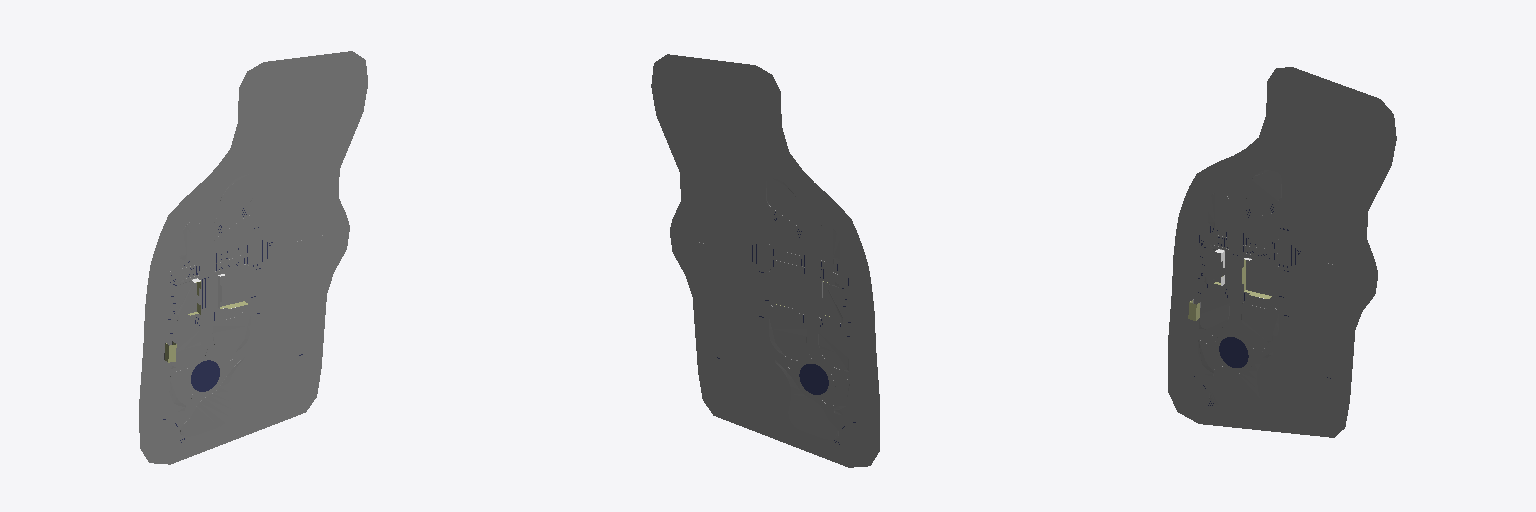
File: mcity.obj
3 views of the same model, side by side, from view 1: azimuth 30°, elevation 25°; view 2: azimuth 150°, elevation 25°; view 3: azimuth 330°, elevation 25° (orthographic).
Parts seen in each view (by area): view 1: Mcity; view 2: Mcity; view 3: Mcity.
Boxes of the visible parts, <box> form: Mcity: <box>139,51,367,464</box>; Mcity: <box>651,54,879,467</box>; Mcity: <box>1168,67,1396,437</box>.
Size of the model in its own units: 2300 by 3642 by 76.2.